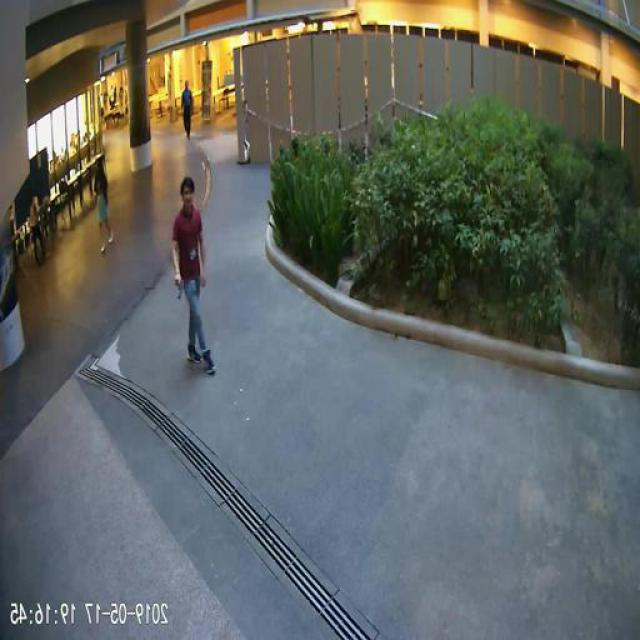Gun: (175, 275, 186, 295)
